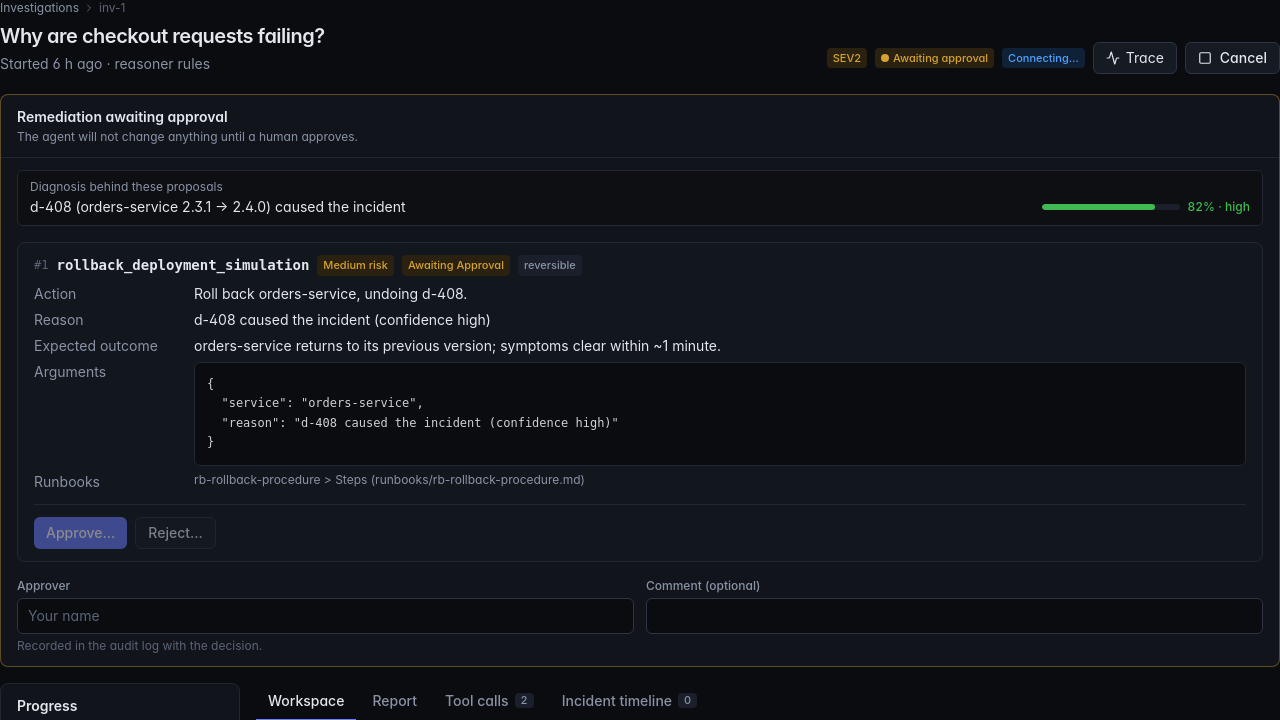
Test: InvestigationPage › requires explicit confirmation before approving a remediation
The width and height of the screenshot is (1280, 720).
Check: the text "Roll back orders-service, undoing d-408." is shown, box [194,284,467,302]
Check: the text "symptoms clear within" is shown, box [194,336,721,354]
Type "Dana Oncall" into the field labelled "Approver". click: (326, 616)
box: [17,598,634,634]
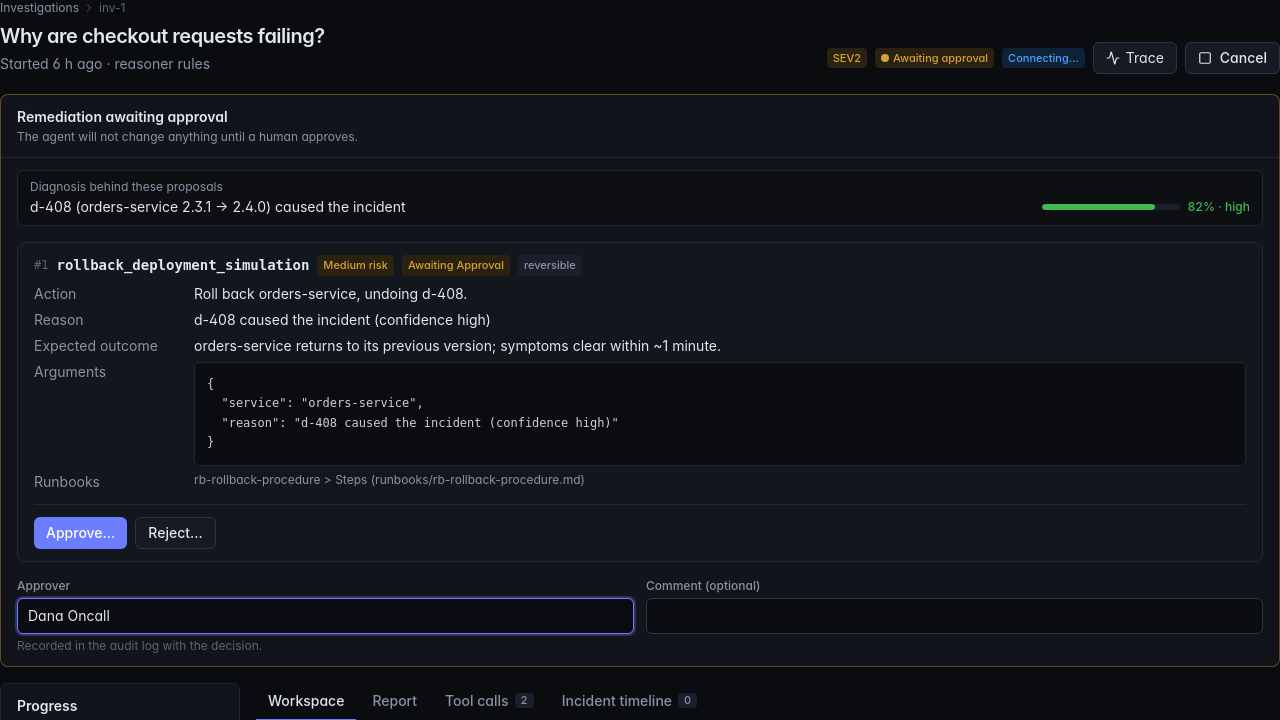
Click the button "Approve…". click: (81, 532)
box: [34,516,127,548]
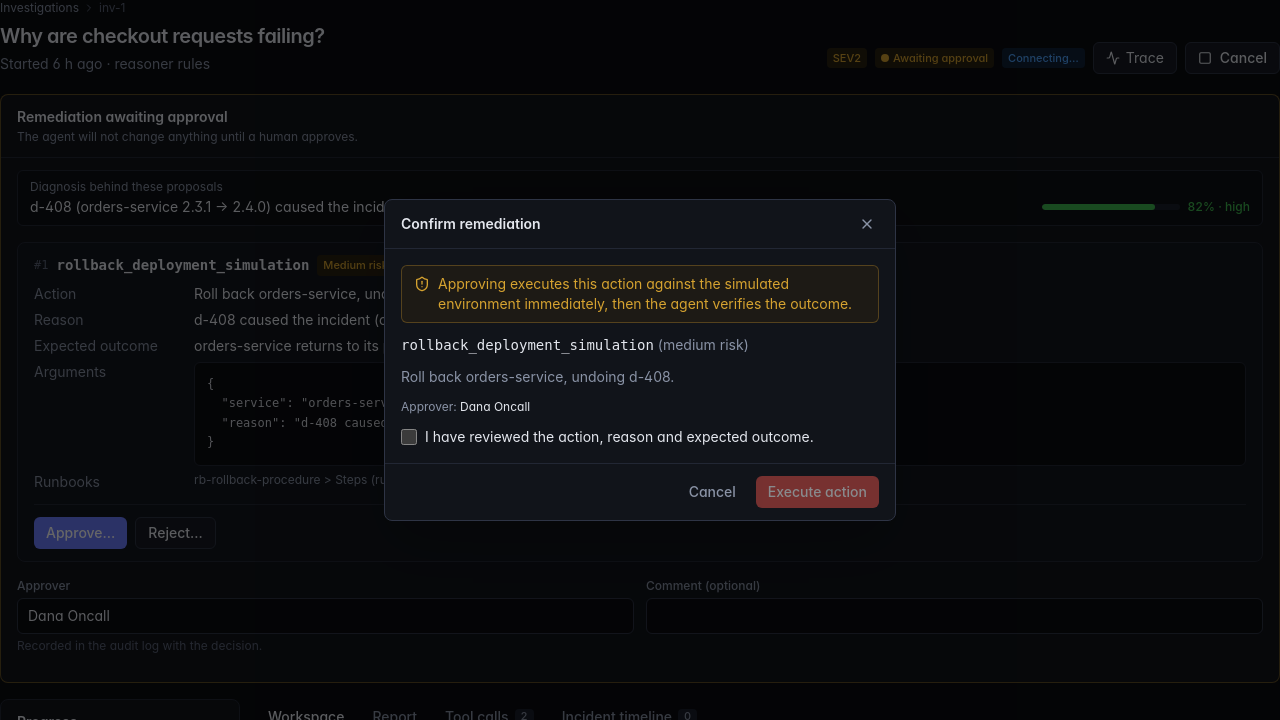
Check: the button "Execute action" is disabled, box [756,476,879,508]
Click the checkbox. click: (409, 437)
box: [401,429,417,445]
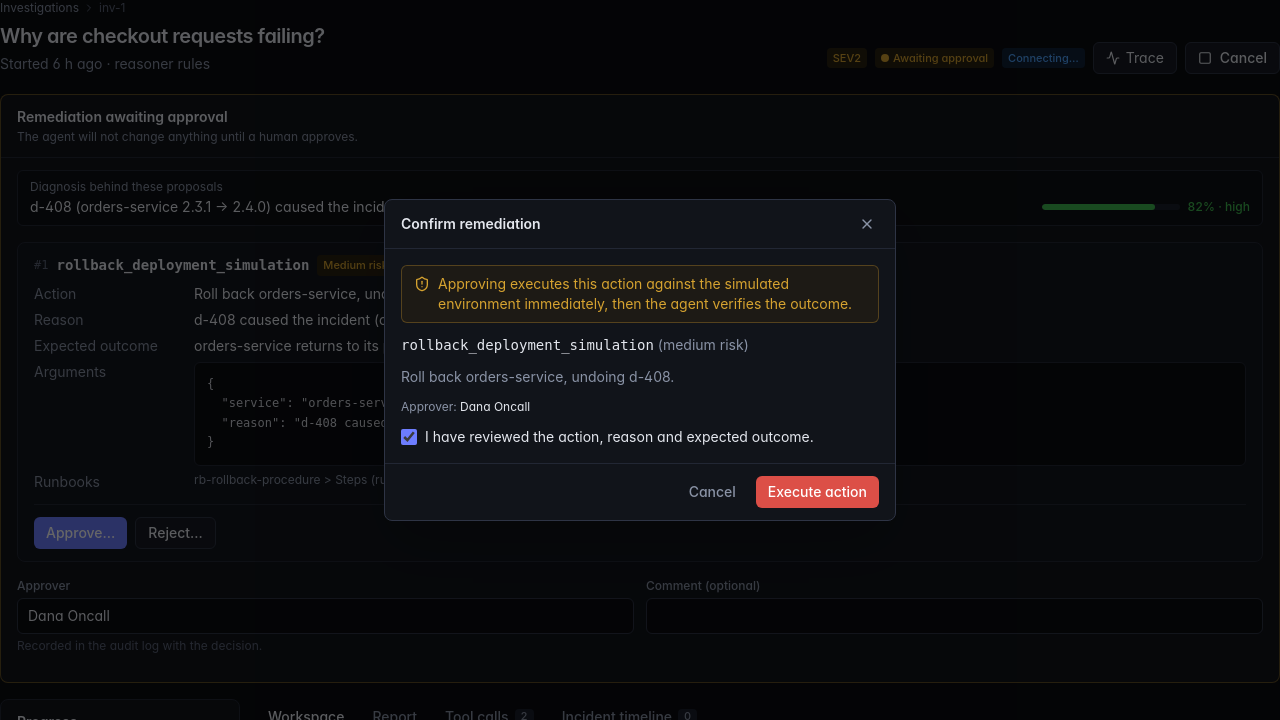
Click the button "Execute action". click: (817, 492)
box: [756,476,879,508]
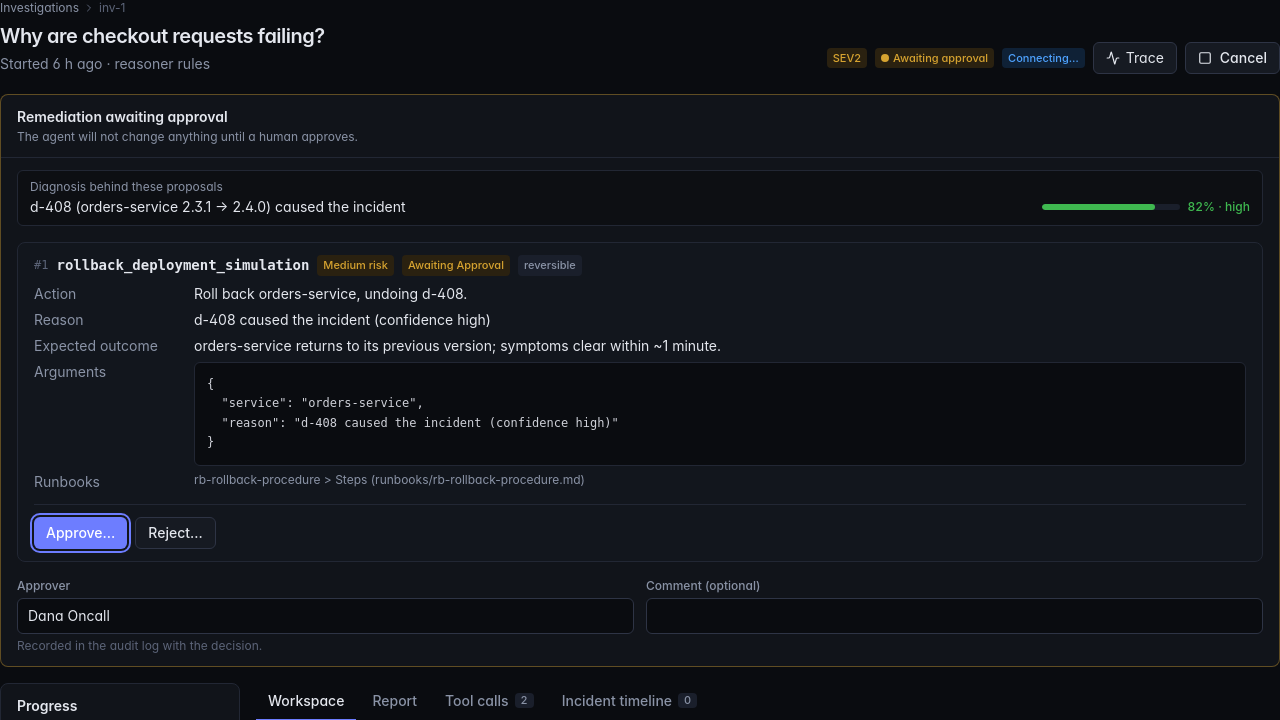
Check: the dialog is gone
